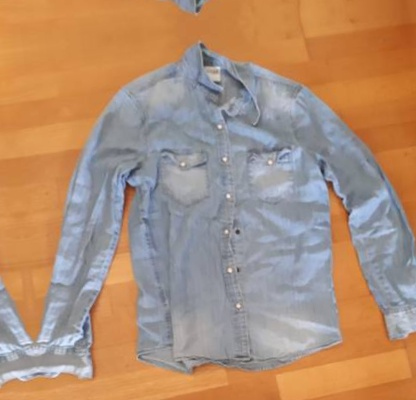Blazer: (2, 26, 416, 400), (0, 74, 42, 400), (0, 0, 393, 29)
